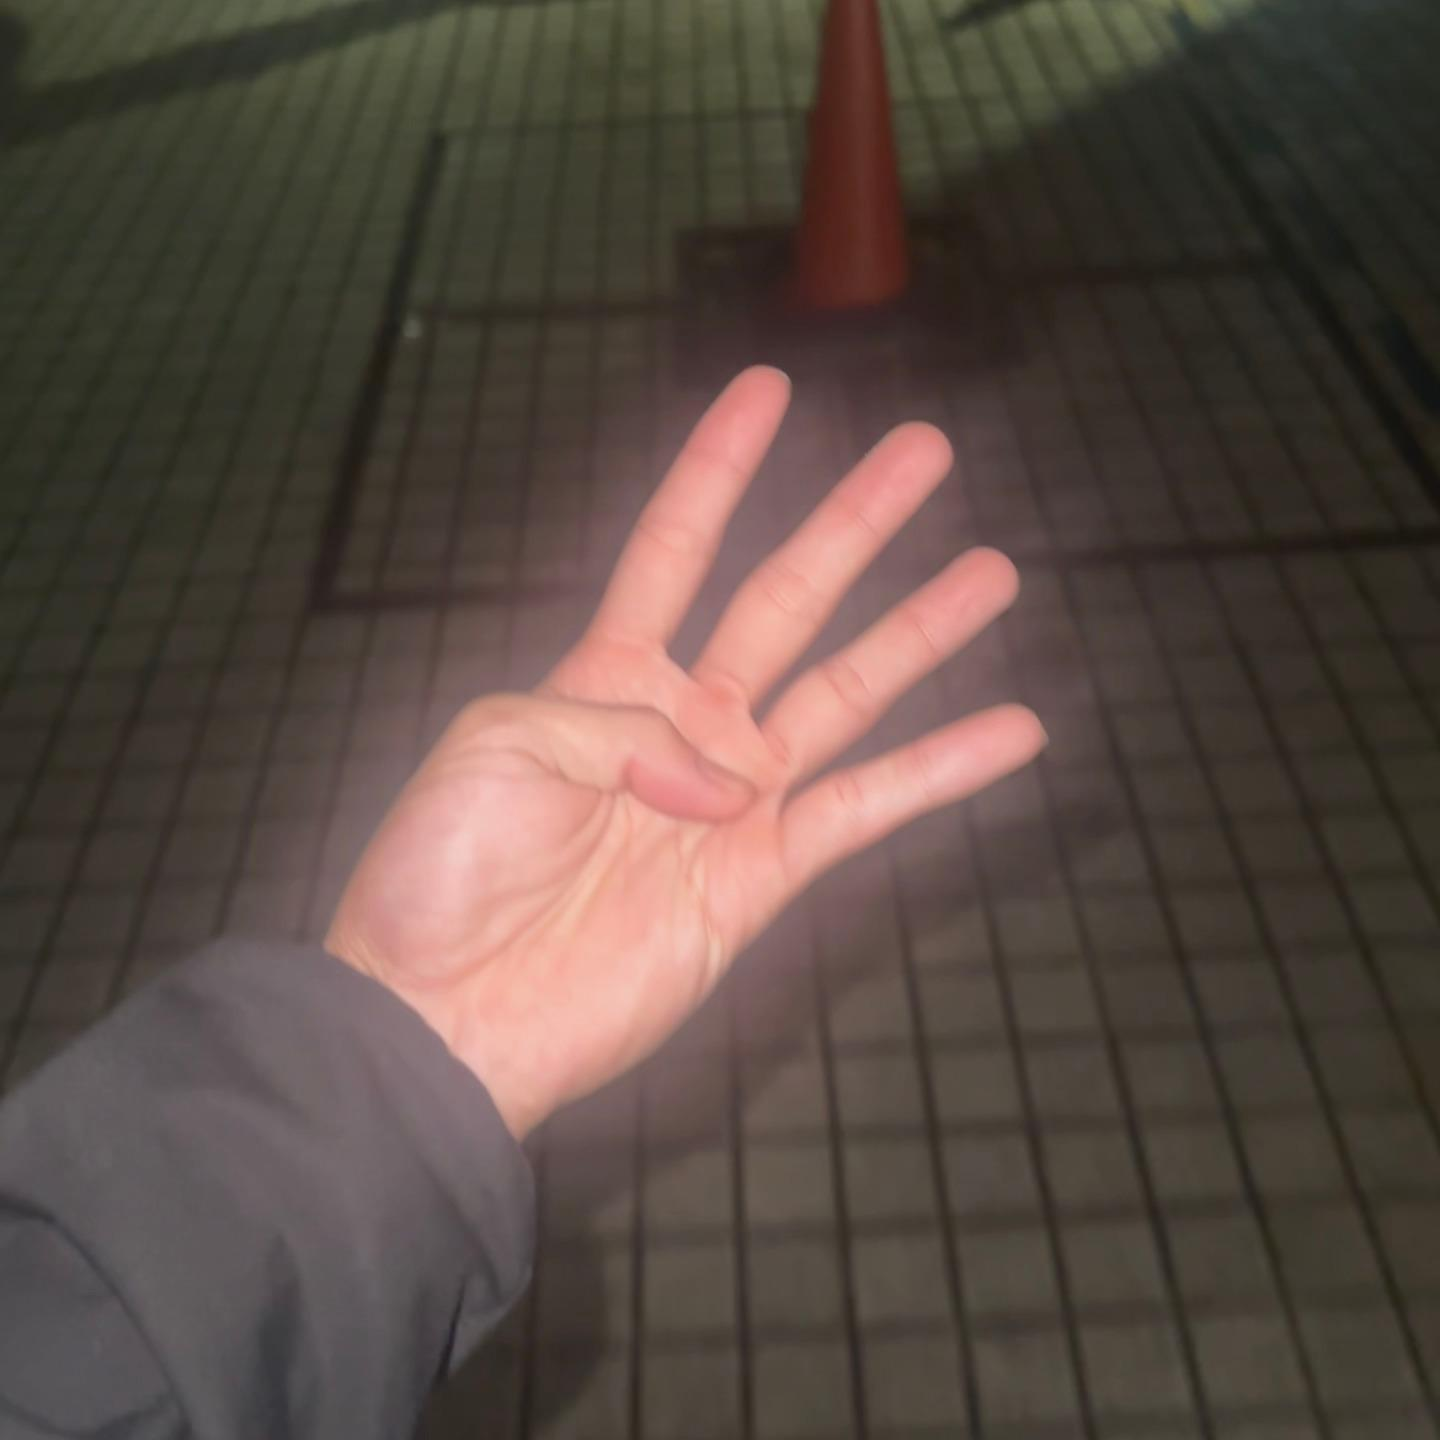without_gloves: (368, 243, 1155, 1072)
